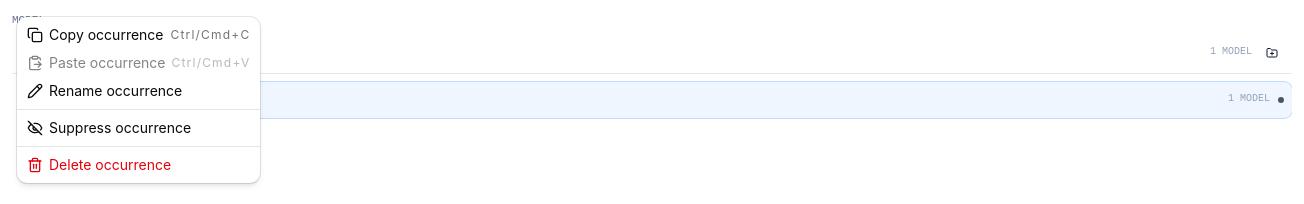
it: ProjectModelTree › cancels an occurrence rename with Escape
This screenshot has width=1304, height=204.
Click the menu item "Rename occurrence". click: point(105, 90)
box: [27,82,182,99]
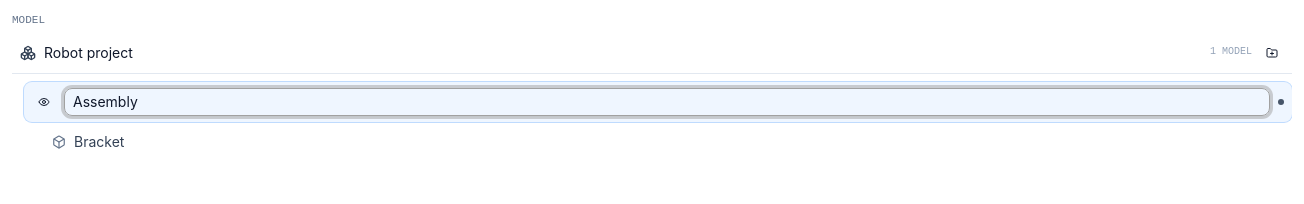
Replace the text in the field named "Occurrence name" with "Discarded name". click: point(667, 102)
box: [64,88,1270,116]
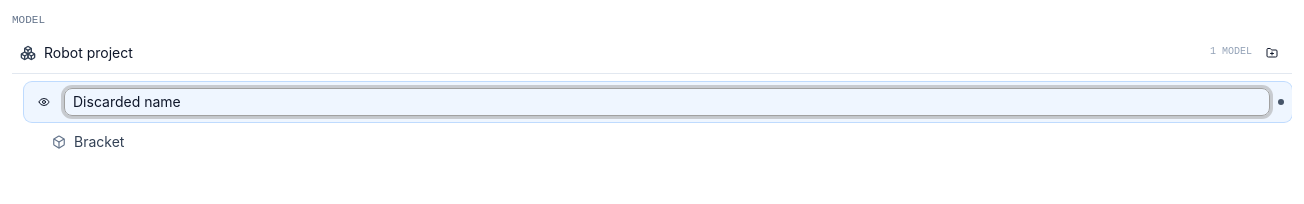
Press Escape
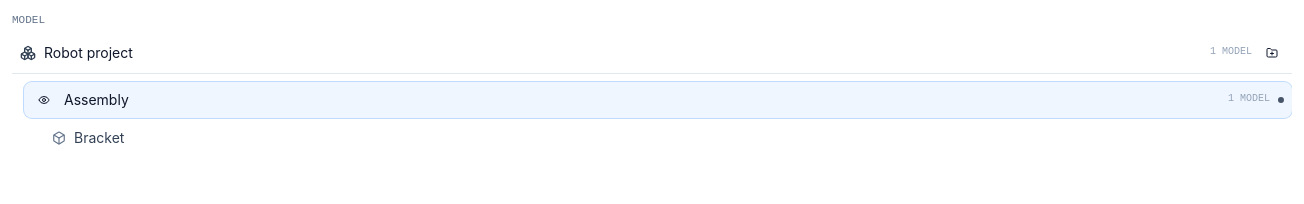
Result: the option "Assembly 1 model" is shown at [64,90,1270,110]
